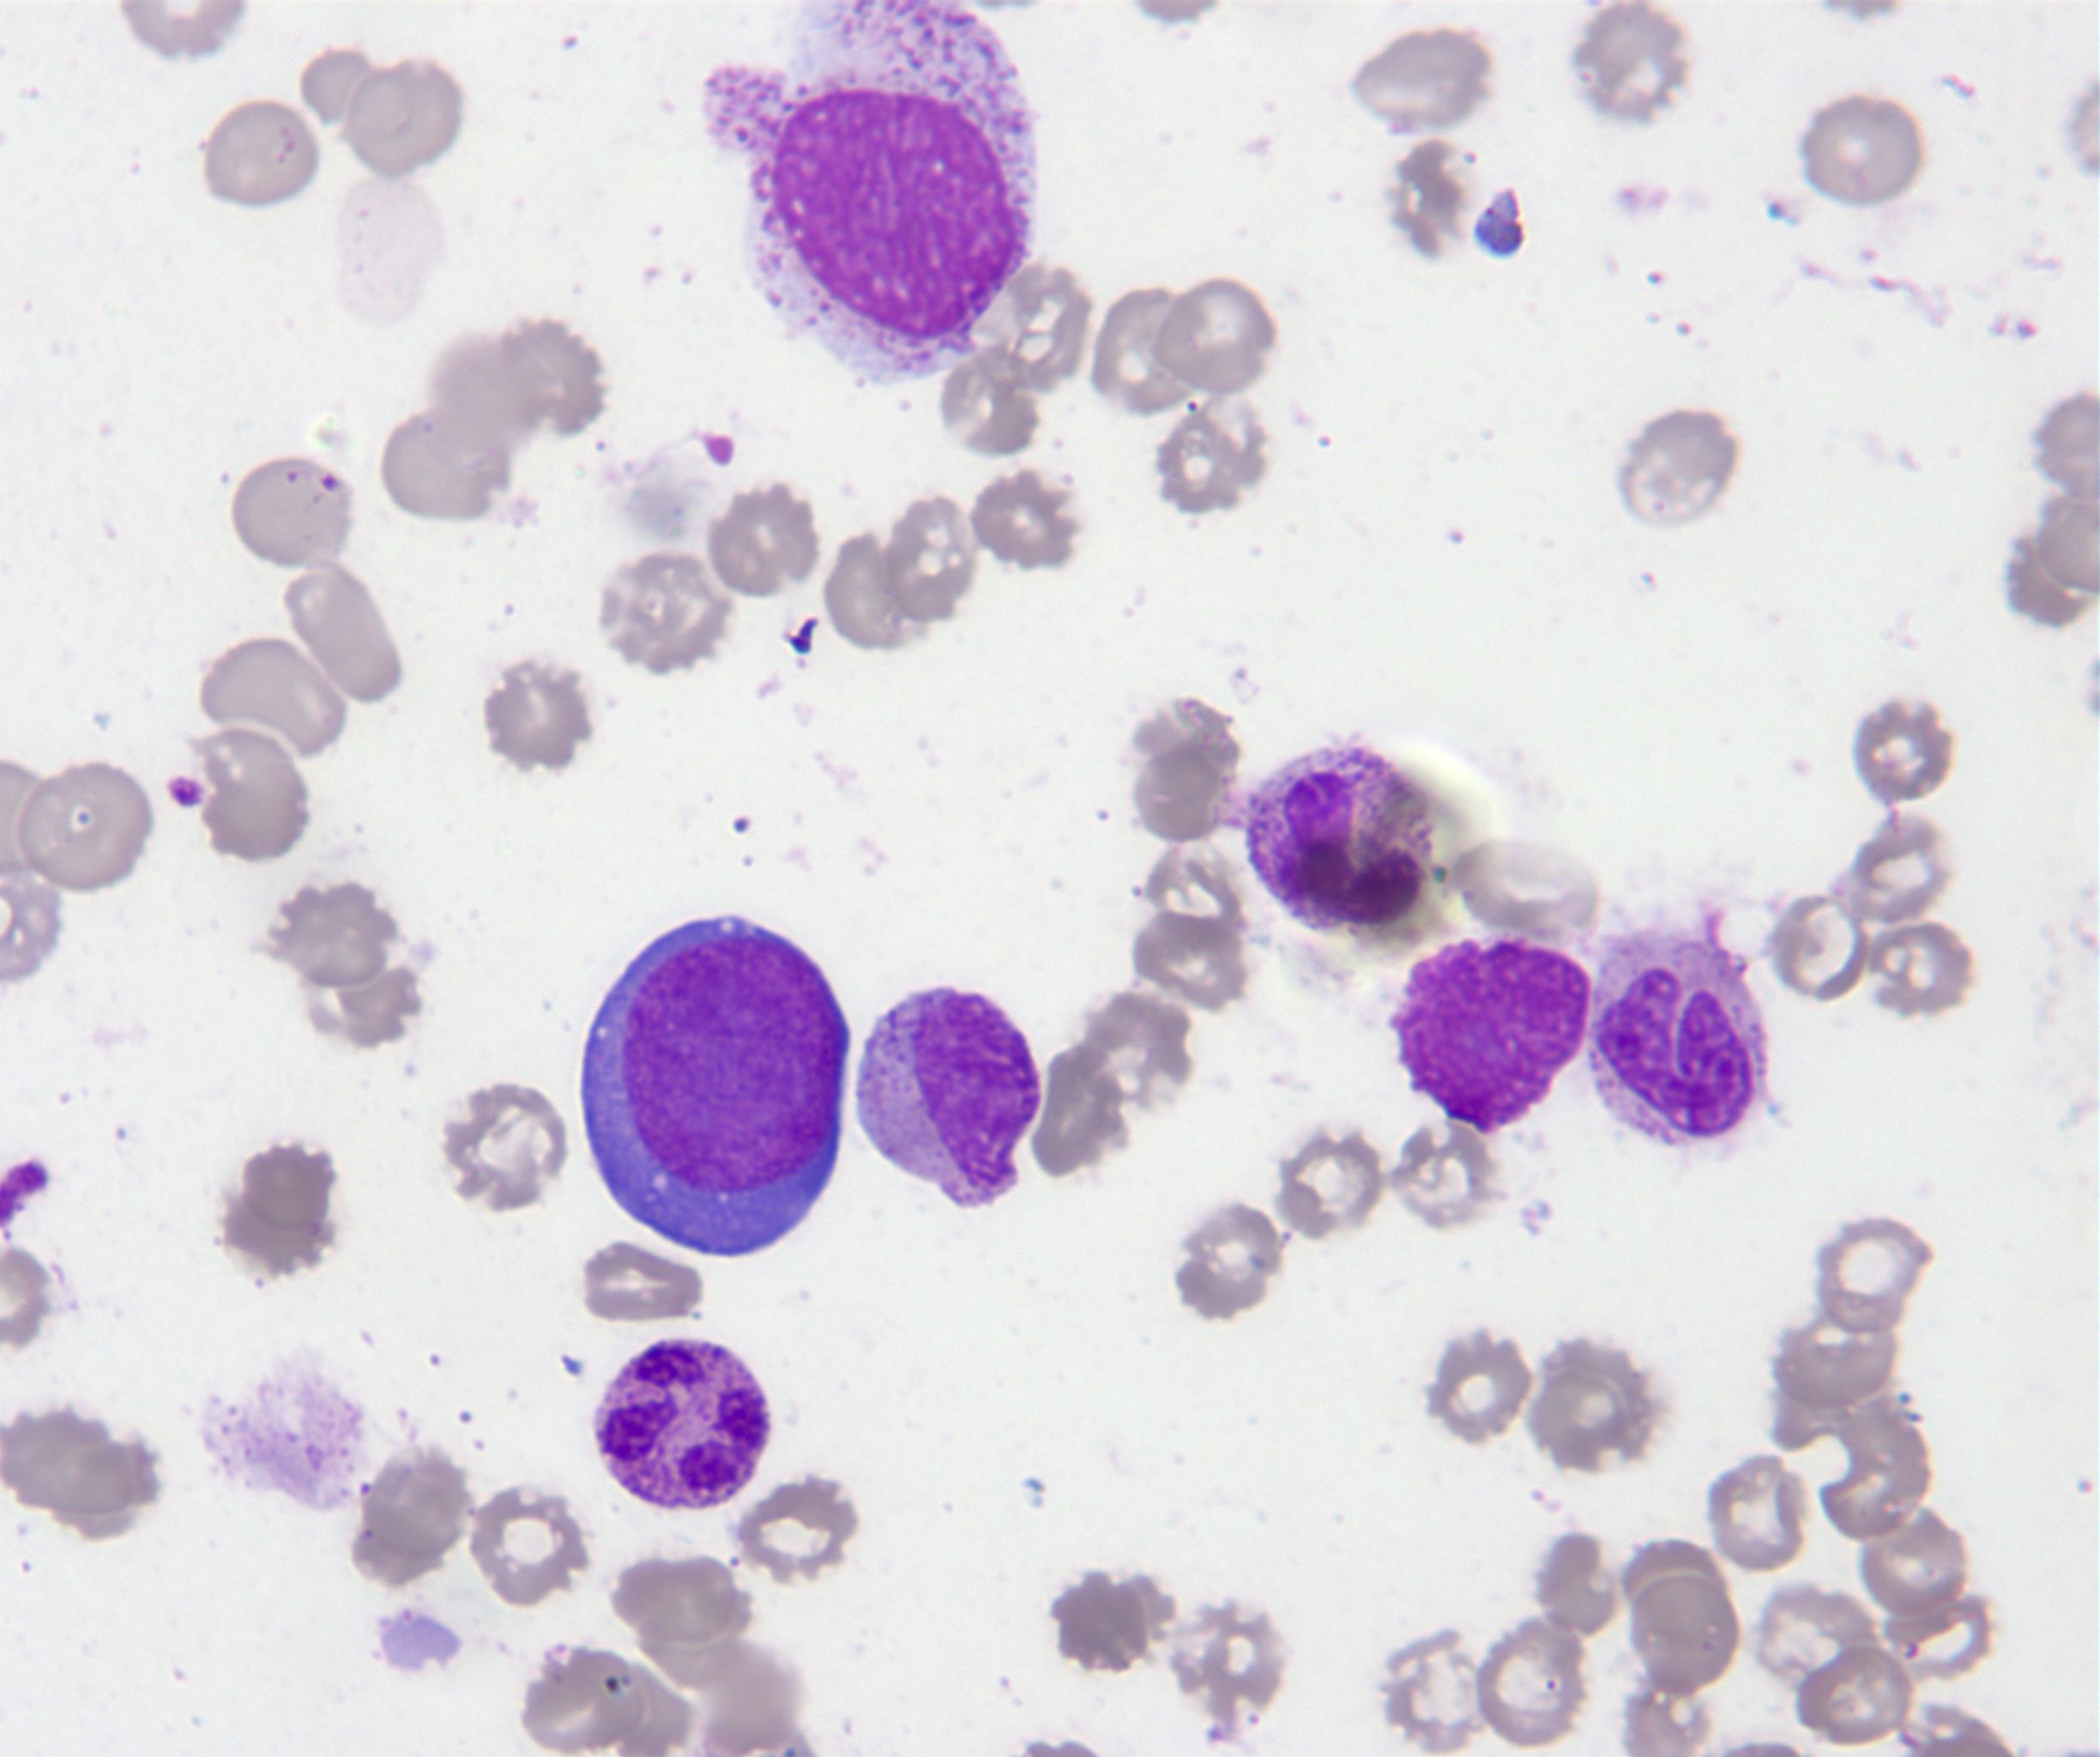21: (572, 906, 853, 1267)
3: (849, 979, 1050, 1220)
5: (1582, 928, 1777, 1159), (1233, 736, 1455, 937)
6: (588, 1333, 776, 1518)
x: (696, 0, 1045, 398), (1376, 932, 1603, 1145)
